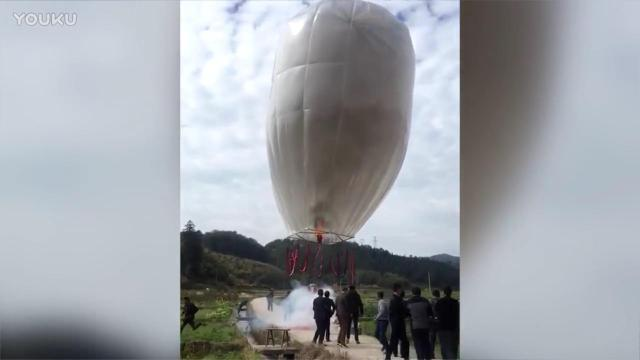smoke: (270, 294, 312, 326)
